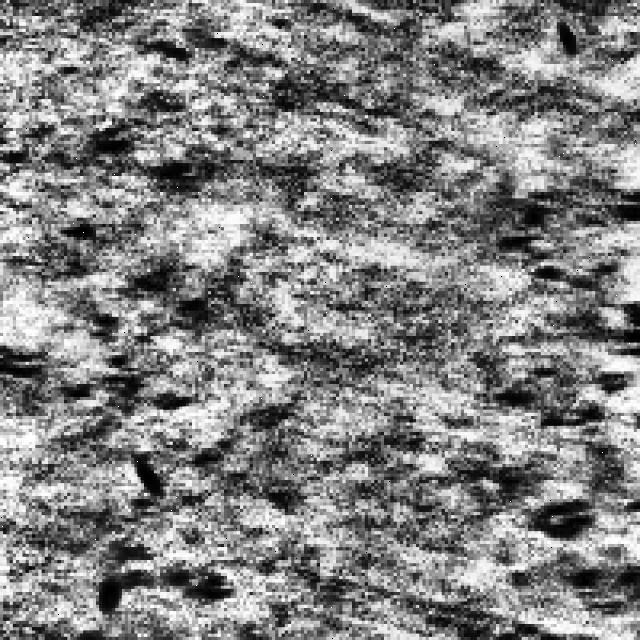Crazing: (74, 32, 244, 611), (467, 157, 640, 627)
